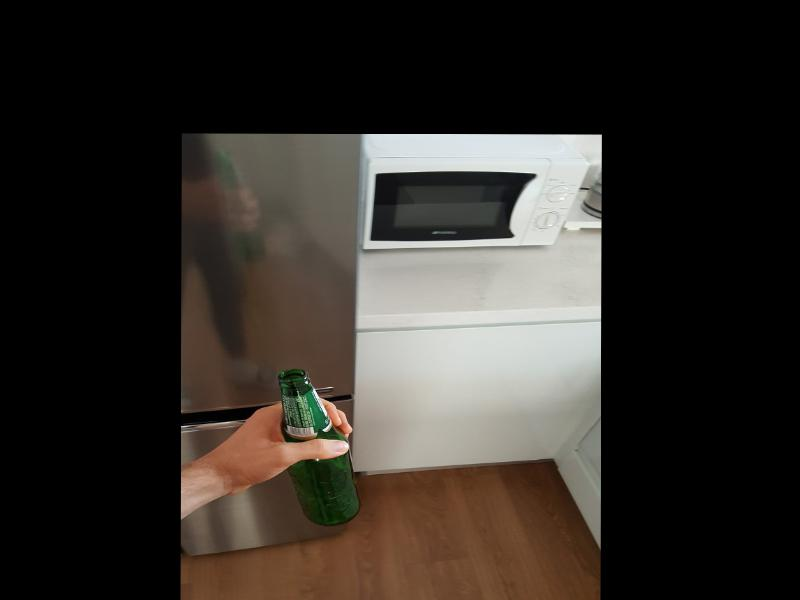Beer: (277, 369, 359, 526)
